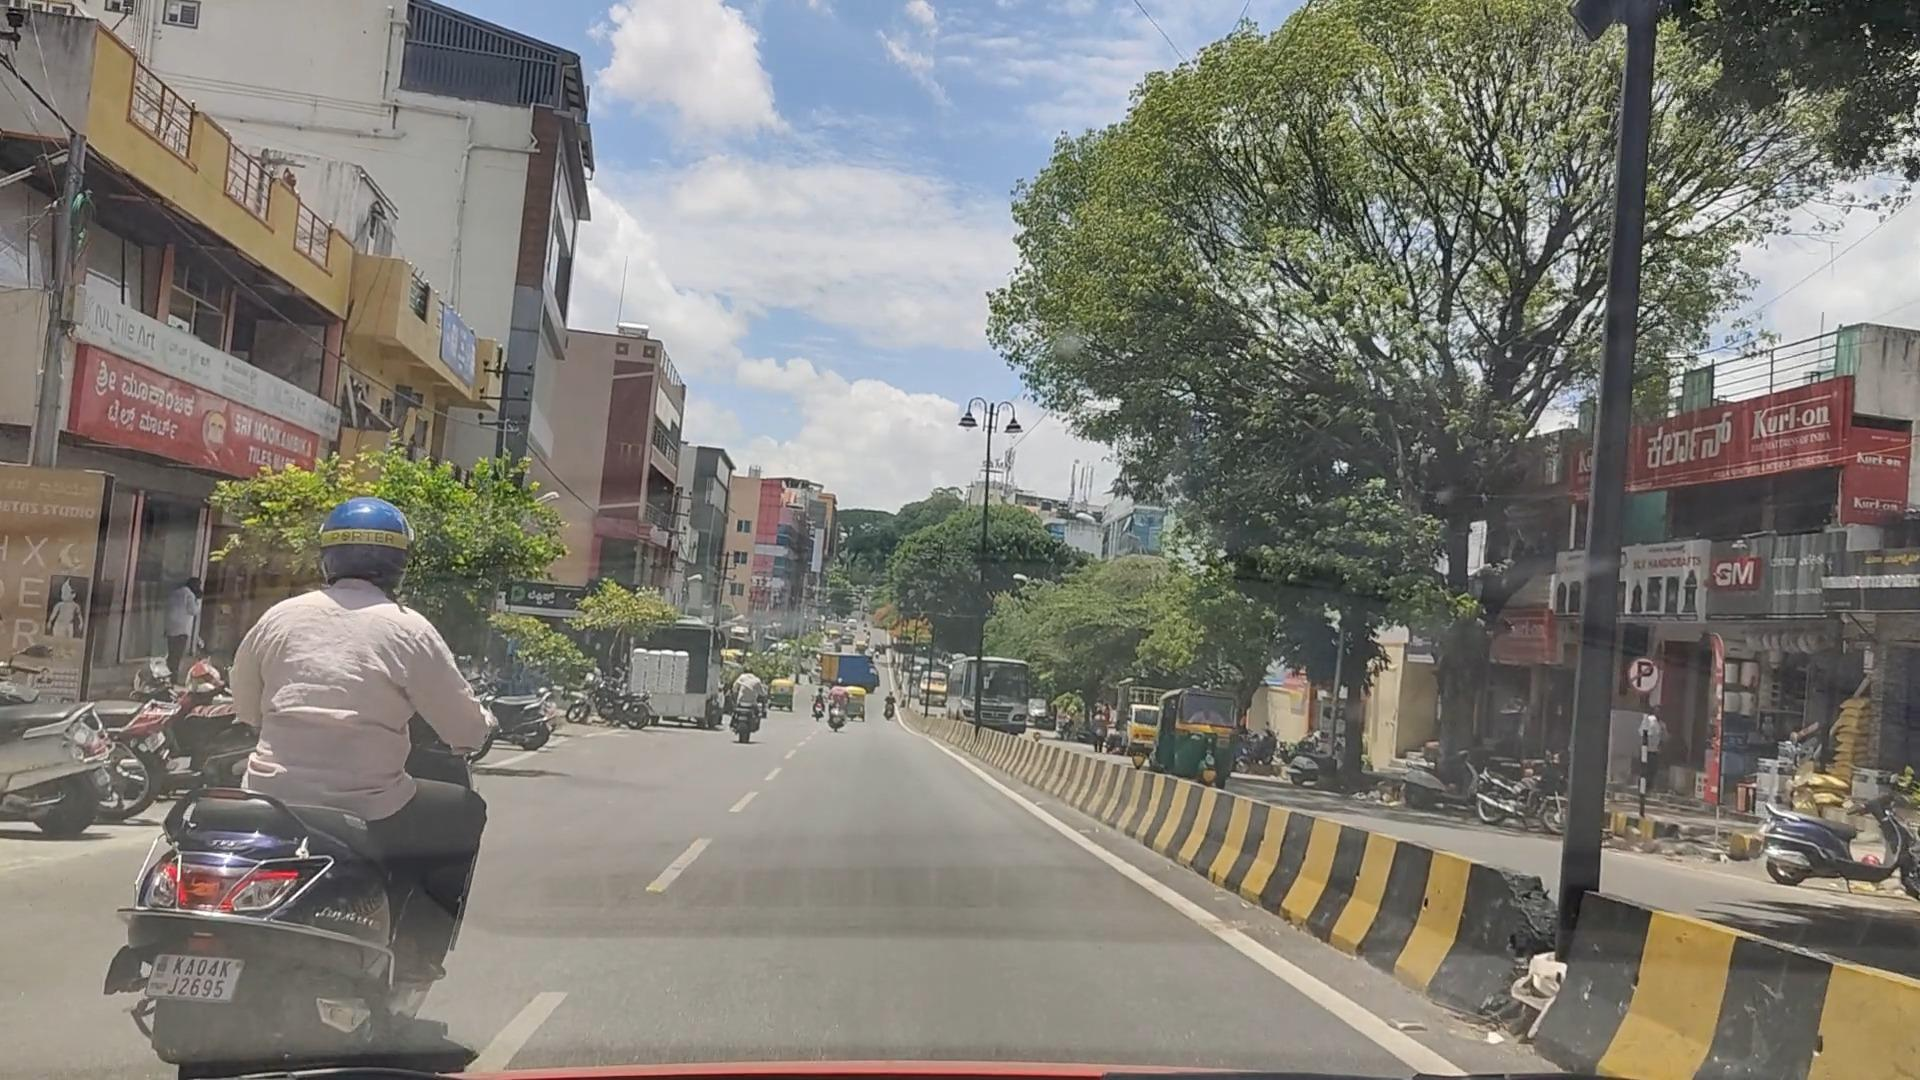LMV: (142, 501, 546, 1080)
